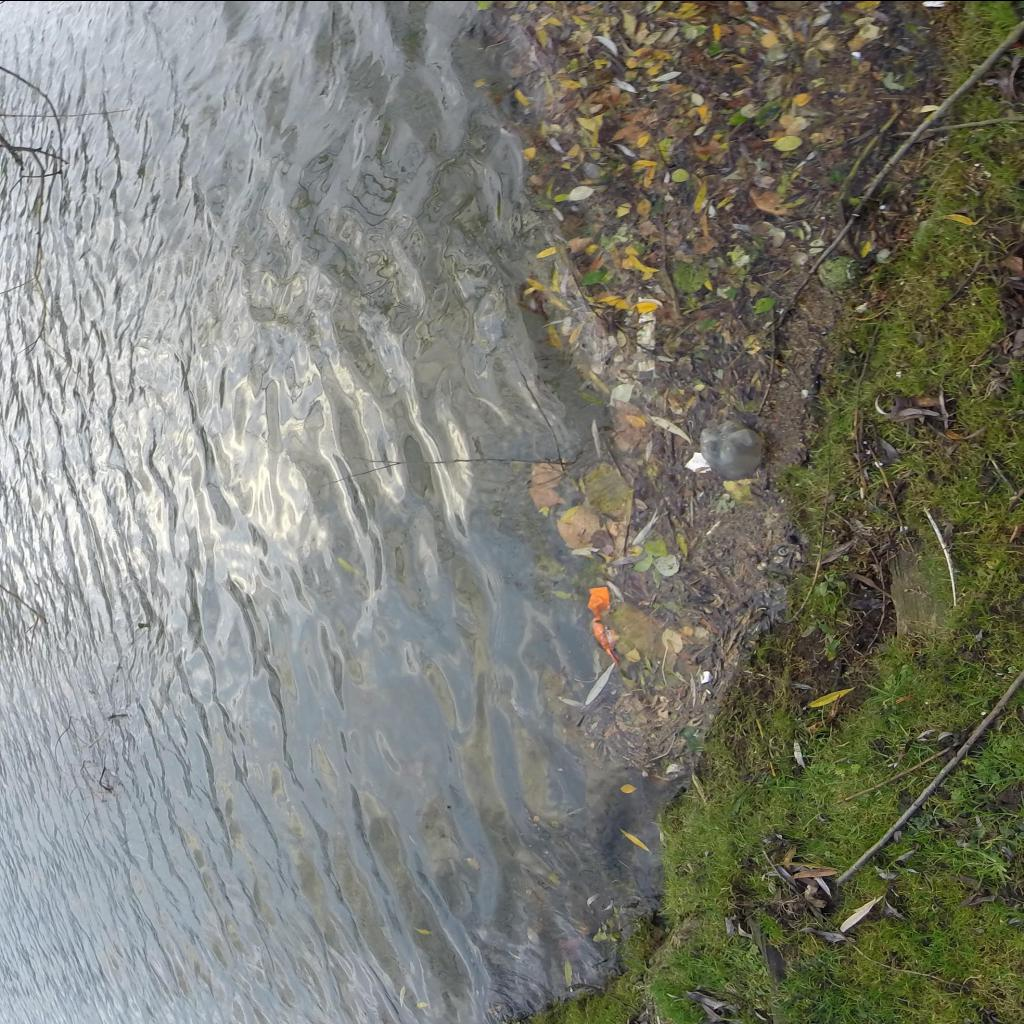Clear plastic bottle: (700, 419, 764, 479)
Other plastic: (586, 586, 618, 665)
